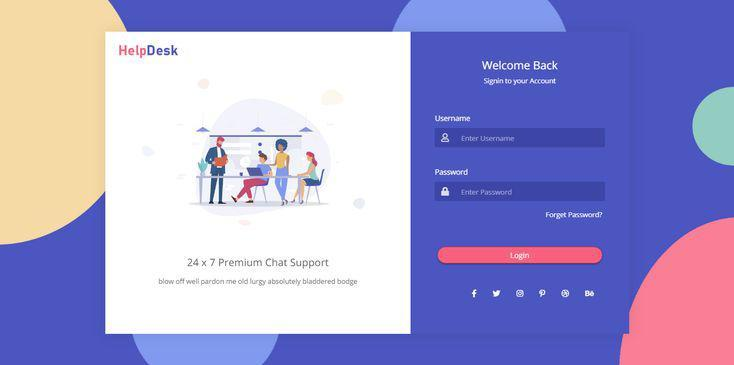button: (439, 248, 603, 264)
icon: (559, 286, 572, 301), (491, 287, 503, 300), (470, 286, 481, 300), (515, 288, 527, 299), (584, 290, 597, 300), (538, 286, 547, 299)
input: (435, 181, 605, 202), (436, 129, 609, 148)
label: (546, 211, 605, 221), (434, 114, 473, 124), (435, 168, 470, 178)
